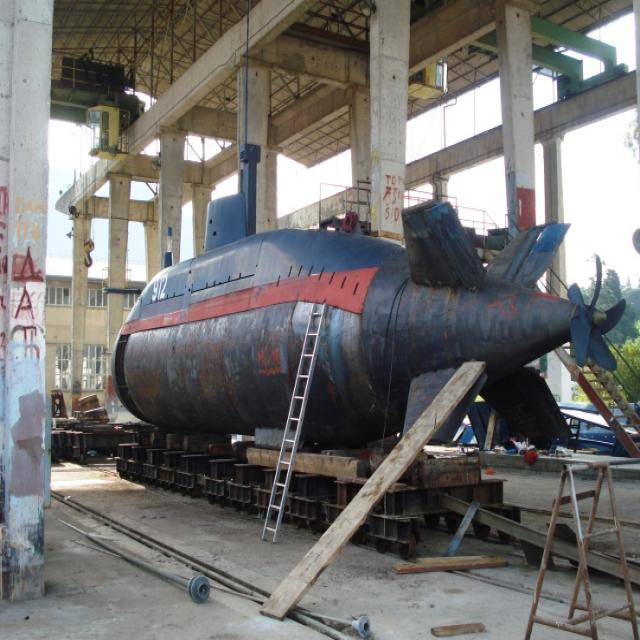submarine: (123, 141, 584, 453)
